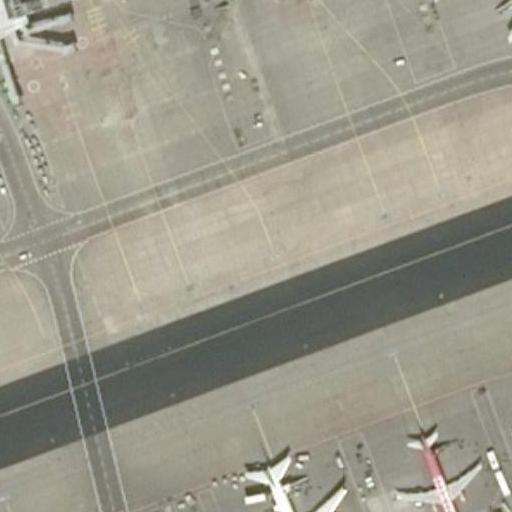Aircraft: (390, 422, 481, 512), (224, 455, 352, 512), (427, 0, 512, 39), (510, 368, 512, 477)
